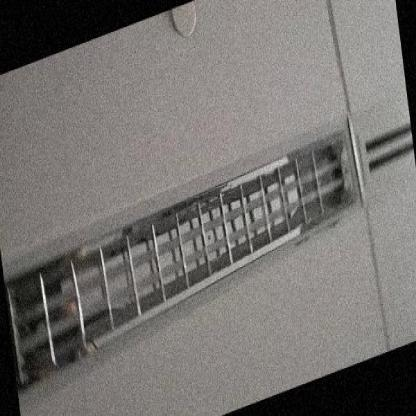light_off: (0, 78, 379, 407)
